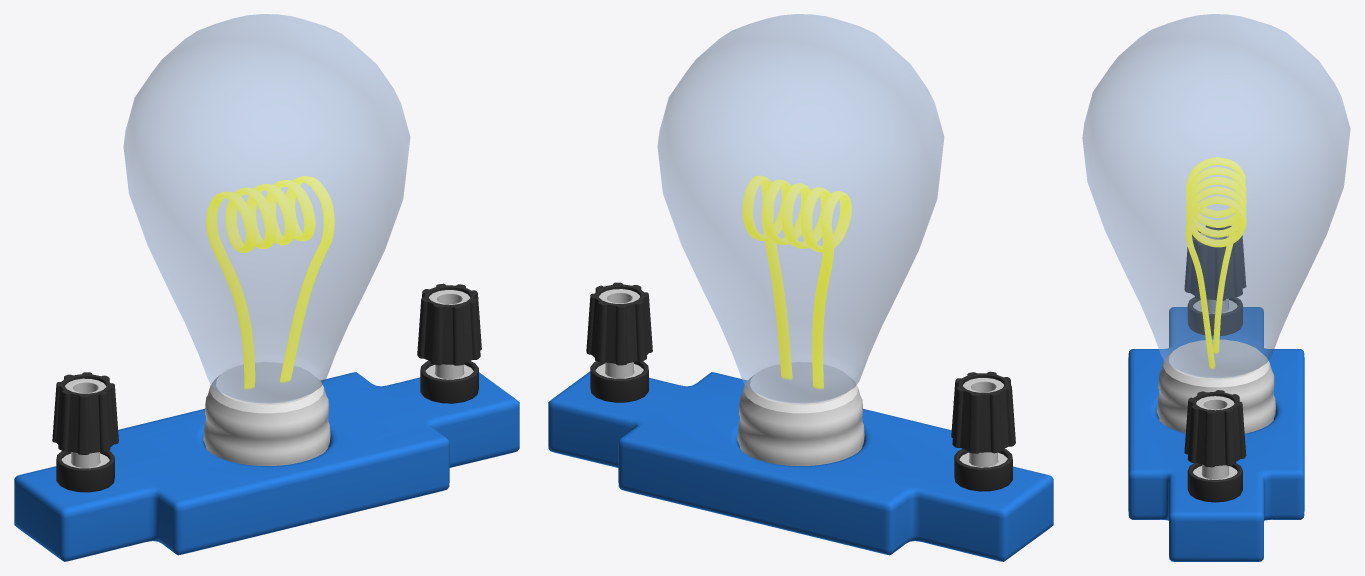
File: Bulb.fbx
The picture shows the model from 3 angles, left to right: view 1: azimuth 30°, elevation 25°; view 2: azimuth 150°, elevation 25°; view 3: azimuth 270°, elevation 25°; orthographic projection. The views are drawn at different scales.
Visible parts, largest first — view 1: Plane.002, Bulb, Cylinder.005, Fillament, Cylinder.004; view 2: Plane.002, Bulb, Cylinder.005, Fillament, Cylinder.004; view 3: Plane.002, Bulb, Cylinder.005, Fillament, Cylinder.004.
Boxes of the visible parts, bbox=[...] form: Plane.002: bbox=[123, 14, 410, 466]; Bulb: bbox=[14, 372, 519, 561]; Cylinder.005: bbox=[52, 283, 481, 467]; Fillament: bbox=[206, 176, 334, 389]; Cylinder.004: bbox=[56, 361, 478, 492]; Plane.002: bbox=[657, 14, 944, 466]; Bulb: bbox=[548, 371, 1053, 561]; Cylinder.005: bbox=[586, 282, 1015, 466]; Fillament: bbox=[742, 175, 851, 389]; Cylinder.004: bbox=[590, 361, 1012, 491]; Plane.002: bbox=[1082, 14, 1350, 433]; Bulb: bbox=[1128, 307, 1304, 561]; Cylinder.005: bbox=[1184, 225, 1246, 479]; Fillament: bbox=[1185, 157, 1246, 369]; Cylinder.004: bbox=[1187, 297, 1242, 502].
Size of the model in its own units: 236 by 227 by 128.
